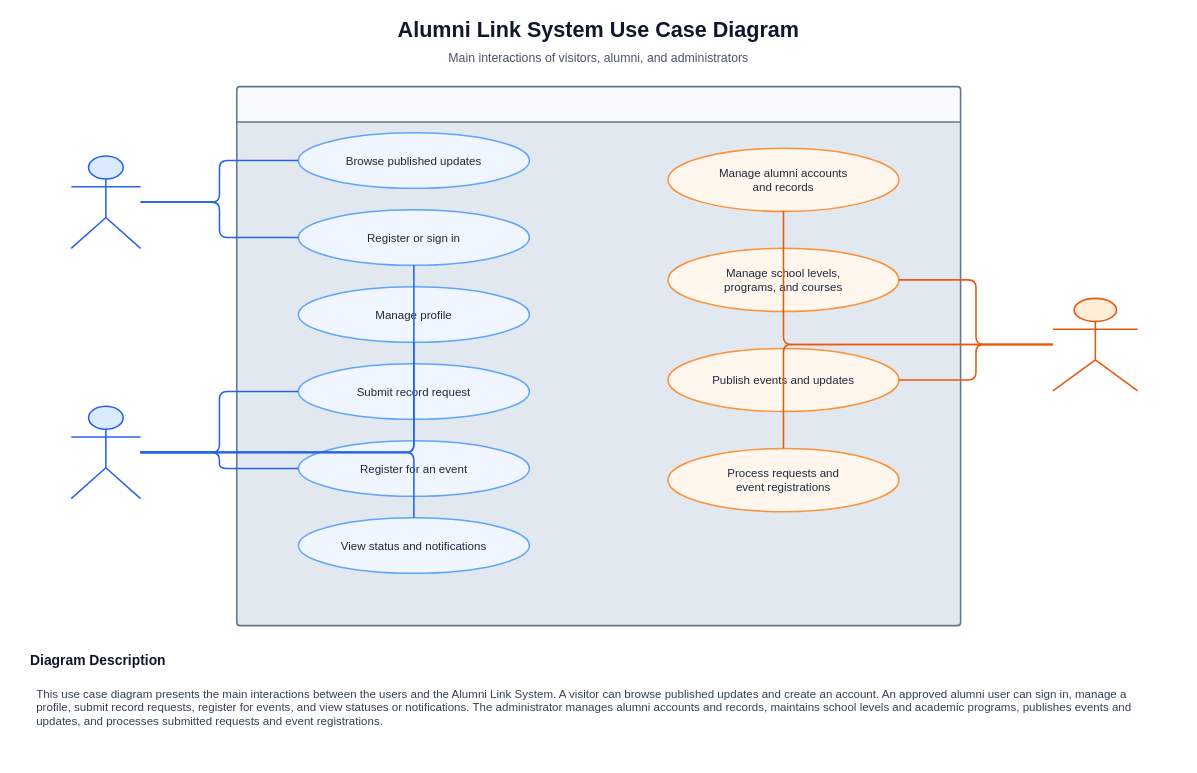
The diagram is 1197 pixels wide and 773 high, and some of its shapes have lost their labels. The box of each missing label's shape, as (x1, y1, x2, y2) in pixels:
Administrator: (1052, 297, 1138, 391)
Alumni: (70, 405, 141, 499)
ALUMNI LINK SYSTEM: (236, 85, 961, 626)
Visitor: (70, 155, 141, 249)
